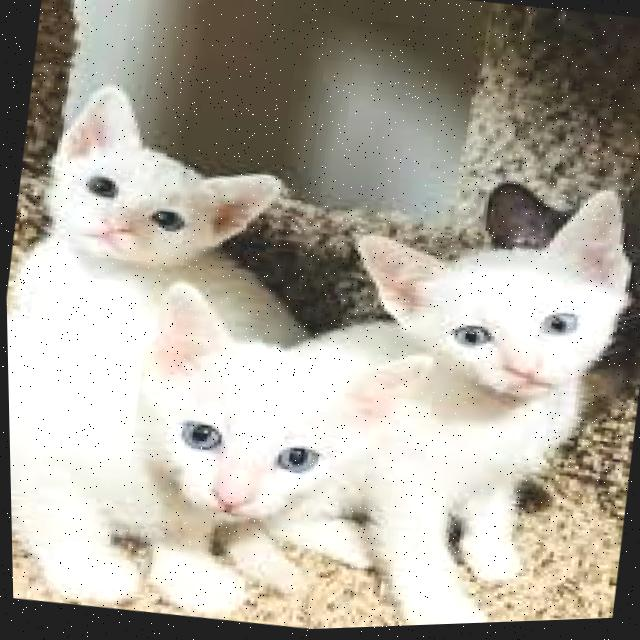Khao Manee: (5, 248, 446, 640), (301, 154, 640, 631), (5, 64, 347, 372)
